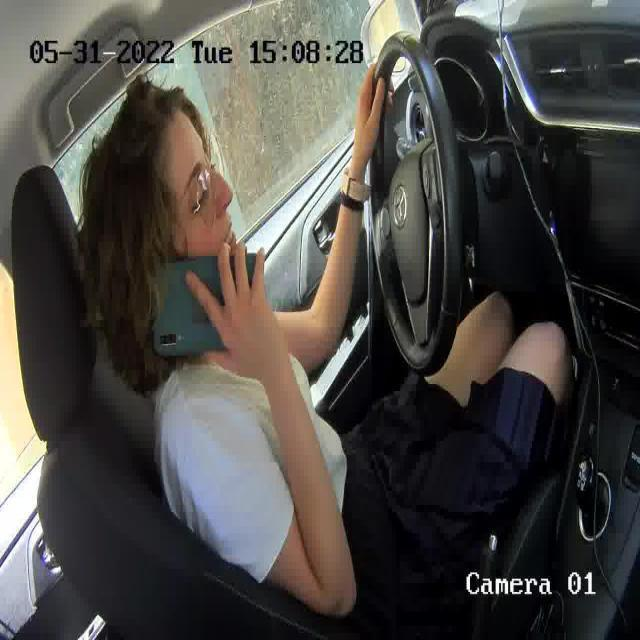Eye-Close: (188, 186, 209, 214)
Inattentive: (74, 74, 260, 368)
